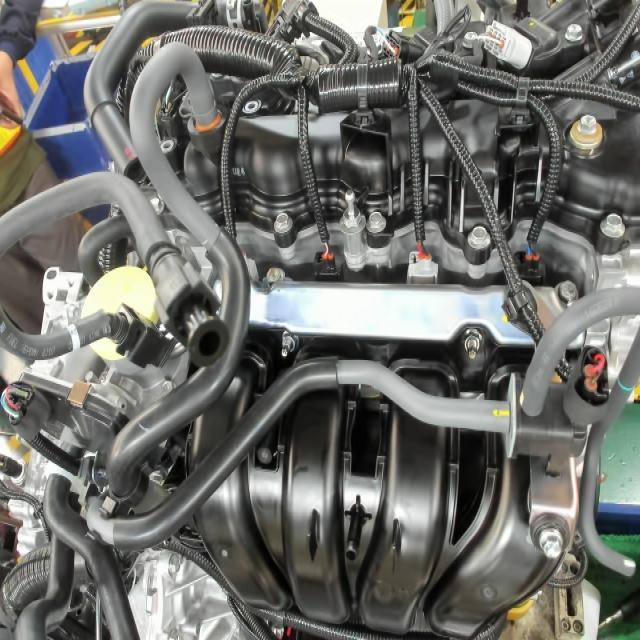Hose Canister-HJ: (610, 374, 637, 397)
Tube Sub Assy Fuel-W: (55, 315, 85, 358)
